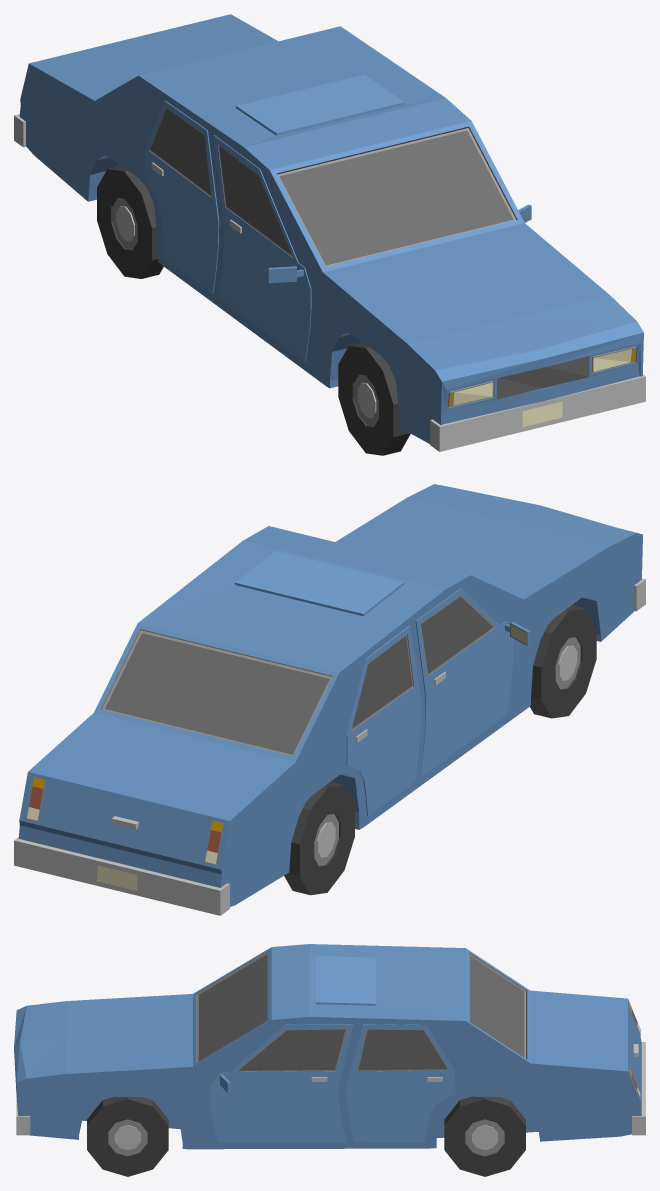
The model's file is old car.fbx.
3 renders of one model, top to bottom at view 1: azimuth 30°, elevation 25°; view 2: azimuth 150°, elevation 25°; view 3: azimuth 270°, elevation 25°, orthographic. The views are drawn at different scales.
Parts seen in each view (by area): view 1: cvx, Cylinder_2_5, Cylinder_2_7; view 2: cvx, Cylinder_2_7, Cylinder_2_5; view 3: cvx, Cylinder_2_6, Cylinder_2_4.
Part boxes in pixels (x1,y1,x2,y2): cvx: (14, 14, 645, 451); Cylinder_2_5: (338, 342, 410, 455); Cylinder_2_7: (97, 165, 163, 278); cvx: (14, 484, 645, 915); Cylinder_2_7: (284, 782, 354, 895); Cylinder_2_5: (530, 605, 596, 718); cvx: (14, 944, 645, 1149); Cylinder_2_6: (444, 1096, 525, 1176); Cylinder_2_4: (87, 1096, 168, 1176).
Bounding box in the file's own units: 169 × 134 × 476.
